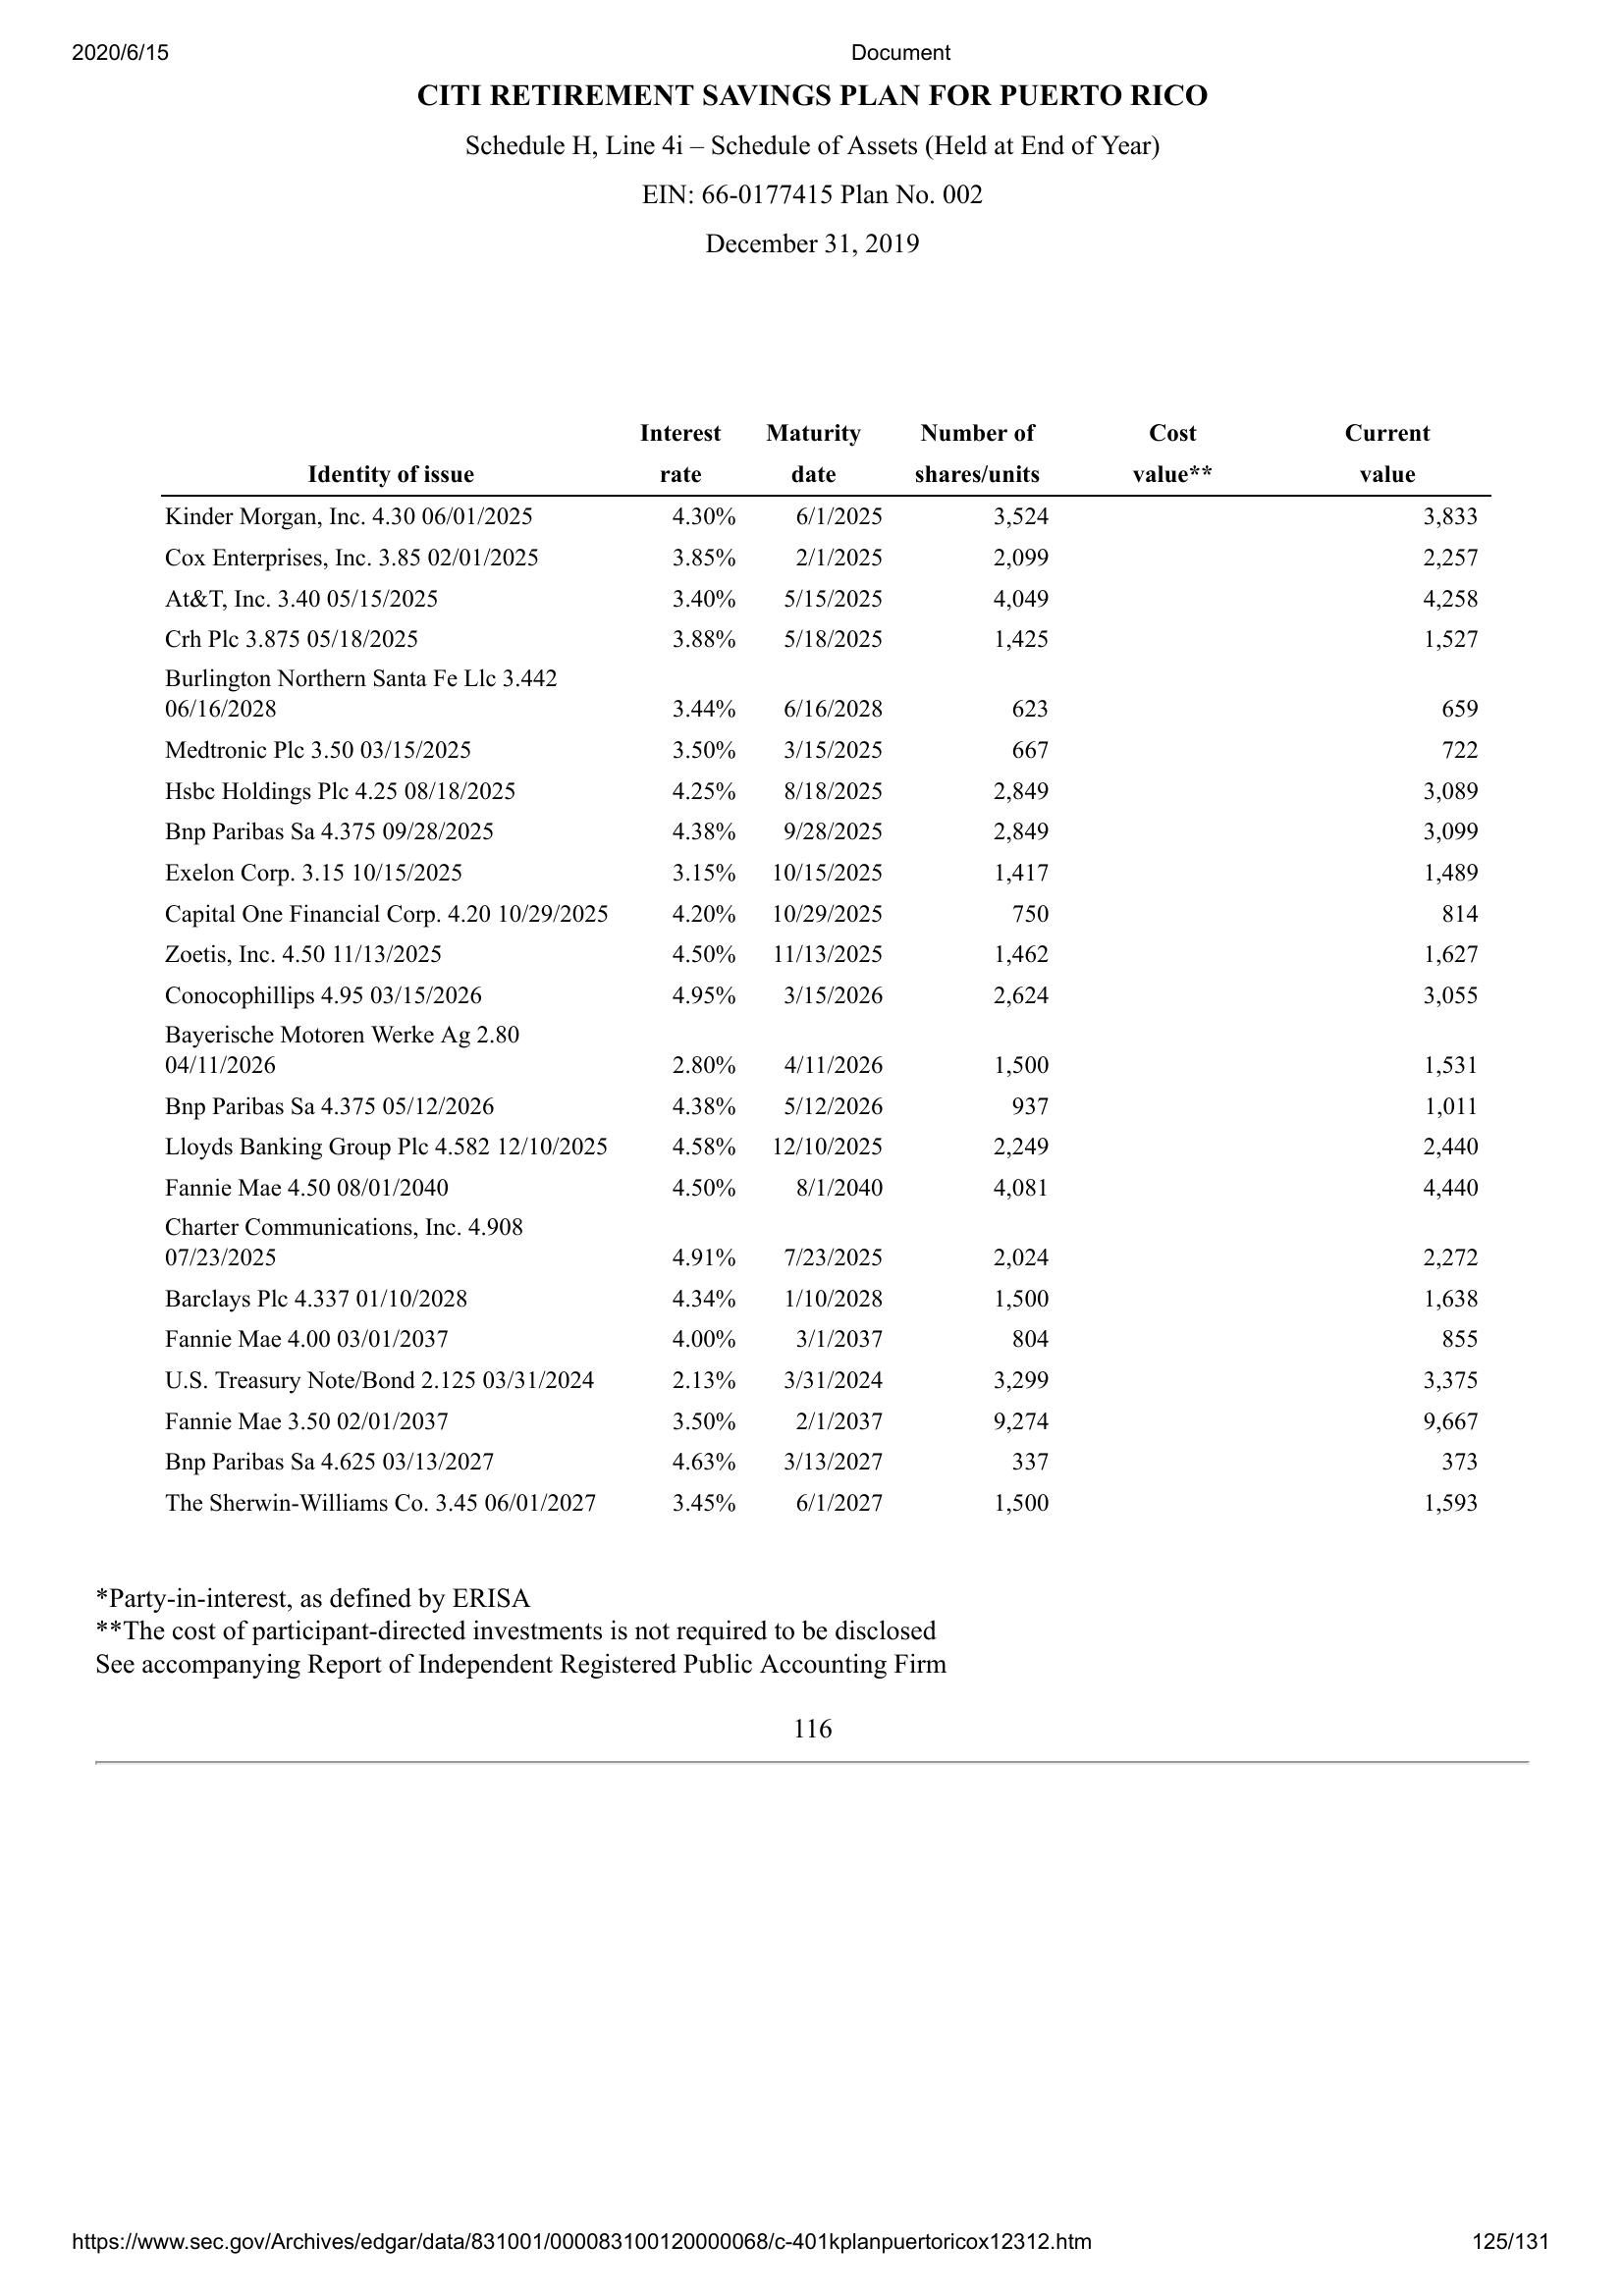table: (158, 418, 1488, 1531)
